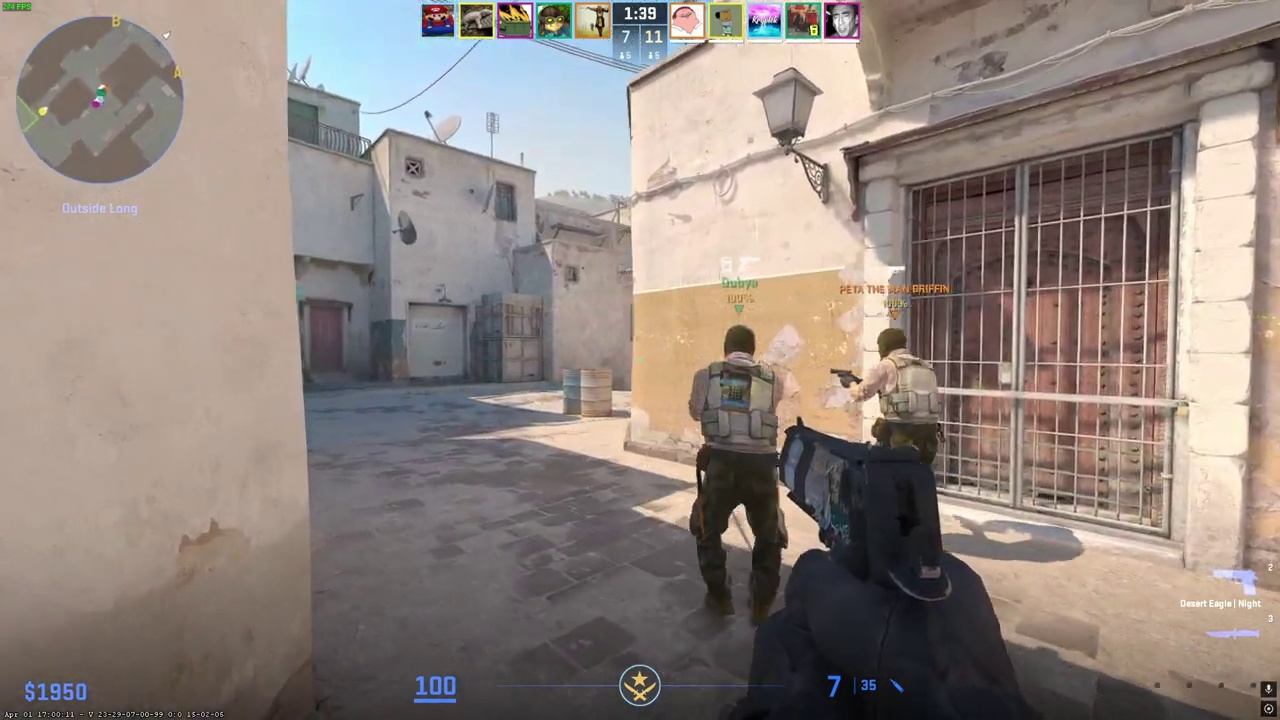Terrorist: (686, 323, 794, 639), (862, 327, 944, 452)
